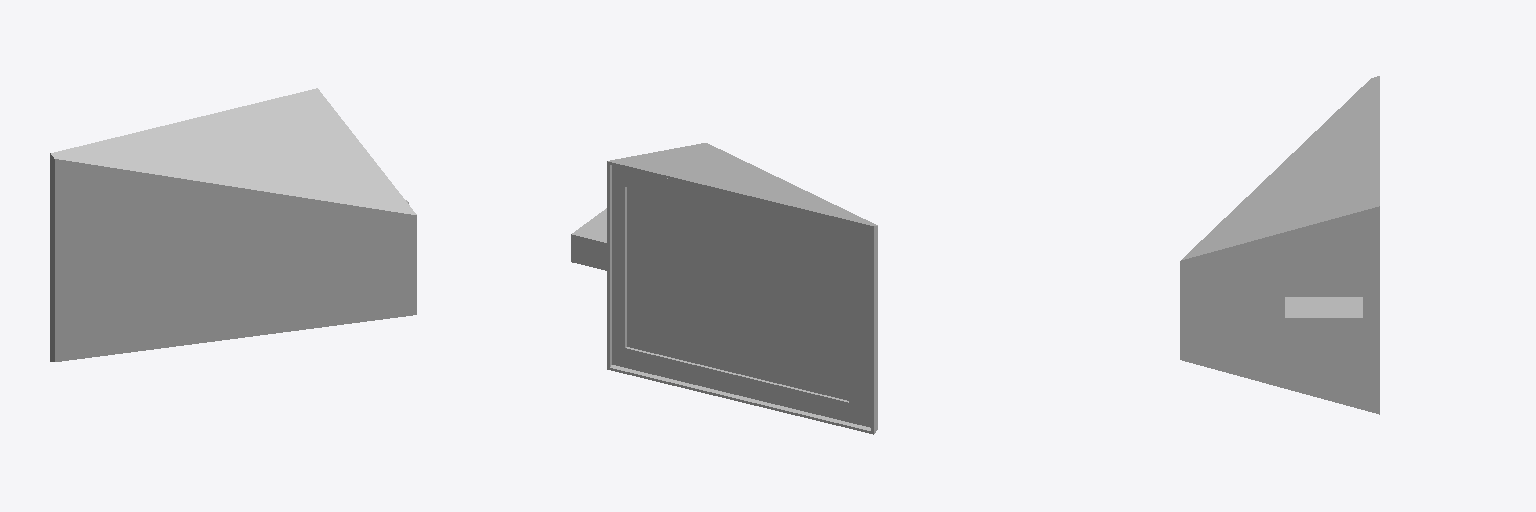
3 views of the same model, side by side, from view 1: azimuth 30°, elevation 25°; view 2: azimuth 150°, elevation 25°; view 3: azimuth 270°, elevation 25° (orthographic).
Parts seen in each view (by area): view 1: Cube; view 2: Glas, Cube, Cube.003; view 3: Cube, Cube.003.
Part boxes in pixels (x1,y1,x2,y2): Cube: (50, 88, 416, 361); Glas: (627, 188, 848, 400); Cube: (607, 143, 877, 434); Cube.003: (571, 208, 606, 270); Cube: (1180, 76, 1379, 414); Cube.003: (1285, 297, 1362, 345).
Bounding box in the file's own units: 0.5476 × 0.35 × 0.3037.